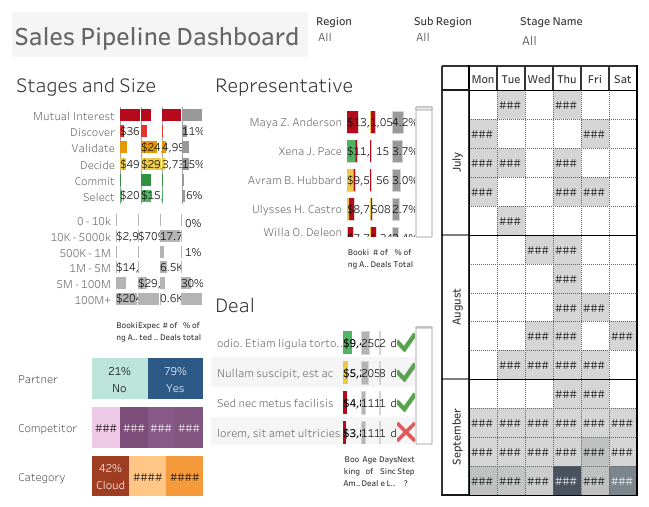

What the dashboard file says about the page in this screenshot:
{"tool":"tableau","page":{"name":"Pipeline Dash","canvas":[1000,1000],"units":"permille","ordinal":0},"visuals":[{"type":"text","box":[4.8,7.9,475.1,80]},{"type":"filter","title":"Pipeline by Stages","param":"[federated.14re9nt0mq17kq1f7uwrl1hz1ukp].[none:Region:nk]","box":[479.9,7.9,153.6,80]},{"type":"filter","title":"Pipeline by Stages","param":"[federated.14re9nt0mq17kq1f7uwrl1hz1ukp].[none:SubRegion:nk]","box":[633.5,7.9,164.4,80]},{"type":"filter","title":"Pipeline by Rep","param":"[federated.14re9nt0mq17kq1f7uwrl1hz1ukp].[none:StageName New:nk]","box":[797.9,7.9,98.6,80]},{"type":"worksheet","title":"Learn More","mark":"Circle","box":[896.5,7.9,98.7,80]},{"type":"worksheet","title":"Pipeline by Stages","mark":"Automatic","rows":["StageName New"],"cols":["AmplifiedBookingAmount","Calculation_967992488411713536","Calculation_967992488412549123","AmplifiedBookingAmount"],"box":[4.8,87.9,311.7,302.1]},{"type":"worksheet","title":"Pipeline by Rep","mark":"Bar","rows":["Opportunity Owner Name"],"cols":["AmplifiedBookingAmount","AmplifiedBookingAmount","Calculation_967992488412549123","Calculation_967992488412549123","AmplifiedBookingAmount"],"box":[316.5,87.9,358.6,452.1]},{"type":"worksheet","title":"Pipeline Calendar New","mark":"Square","rows":["CloseDate","CloseDate"],"cols":["CloseDate"],"box":[675,87.9,320.2,904.1]},{"type":"worksheet","title":"Pipeline by Buckets","mark":"Automatic","rows":["Calculation_687361937185529856"],"cols":["AmplifiedBookingAmount","Calculation_967992488411713536","Calculation_967992488412549123","AmplifiedBookingAmount"],"box":[4.8,389.9,311.7,301.1]},{"type":"worksheet","title":"Pipeline Opps","mark":"Automatic","rows":["Opportunity Id","Opportunity Name"],"cols":["AmplifiedBookingAmount","Calculation_967992488429645829","Calculation_967992488430153734","Calculation_967992488430792714"],"box":[316.5,540,358.6,452.1]},{"type":"worksheet","title":"Partner Involvement","mark":"Square","rows":["Calculation_917889946678280194"],"cols":["IsPartnerRelated"],"box":[4.8,691,311.7,100.7]},{"type":"worksheet","title":"Primary Competitor","mark":"Square","rows":["Calculation_917889946680127492"],"cols":["Primary Competitor"],"box":[4.8,791.7,311.7,100.7]},{"type":"worksheet","title":"Product Category","mark":"Square","rows":["Calculation_917889946678837251"],"cols":["Primary Competitor (copy)"],"box":[4.8,892.4,311.7,99.7]}]}

Visuals, with their boxes on the dashboard's canvas, which has no fixed pixel size, in thousandths of its width and height (x1, y1, x2, y2). These are canvas units, not pixel positions in the 649x507 screenshot, which may show the page scaled, cropped or inside an application window:
text: 5 8 480 88
"Pipeline by Stages" filter: 480 8 634 88
"Pipeline by Stages" filter: 634 8 798 88
"Pipeline by Rep" filter: 798 8 896 88
"Learn More" worksheet (Circle marks): 896 8 995 88
"Pipeline by Stages" worksheet: 5 88 316 390
"Pipeline by Rep" worksheet (Bar marks): 316 88 675 540
"Pipeline Calendar New" worksheet (Square marks): 675 88 995 992
"Pipeline by Buckets" worksheet: 5 390 316 691
"Pipeline Opps" worksheet: 316 540 675 992
"Partner Involvement" worksheet (Square marks): 5 691 316 792
"Primary Competitor" worksheet (Square marks): 5 792 316 892
"Product Category" worksheet (Square marks): 5 892 316 992
